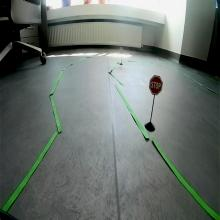stop: (150, 74, 162, 96)
